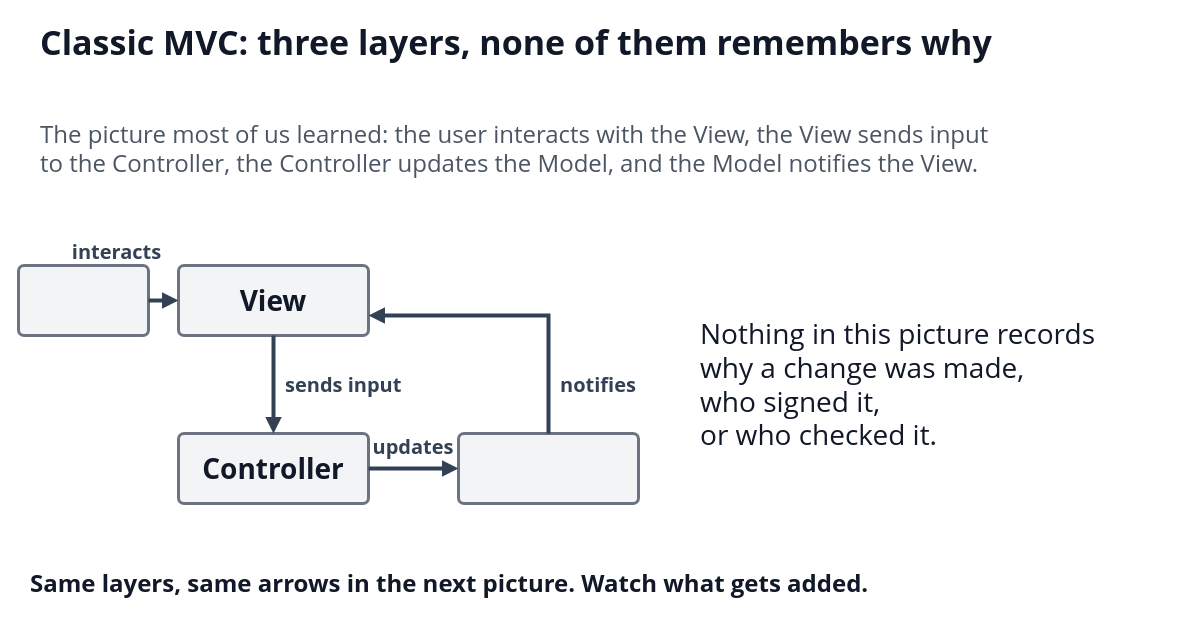
Image size: 1186x620. Some labels were removed from this diagram. The centre of each missing label's shape, as x and y in pixels:
"Model" belongs at point (548, 468).
"User" belongs at point (83, 300).
